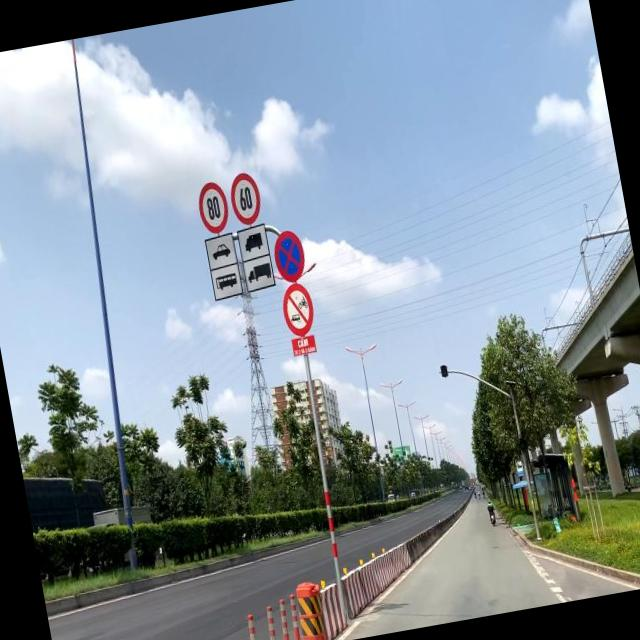P-104: (277, 280, 318, 337)
P-127: (194, 179, 233, 235), (228, 170, 264, 228)
P-130: (269, 228, 309, 284)
